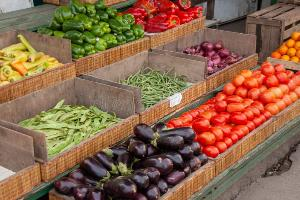bell_pepper: (32, 0, 144, 56), (0, 11, 58, 87), (105, 0, 208, 32)
eggplant: (59, 117, 196, 200)
onion: (181, 32, 247, 74)
orange: (262, 28, 300, 64)
tomato: (166, 62, 300, 156)
